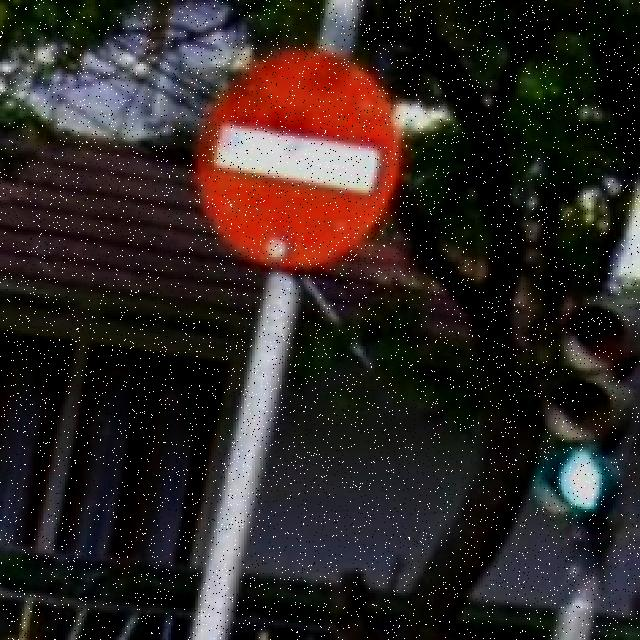Zakaz wjazdu: (195, 47, 396, 267)
